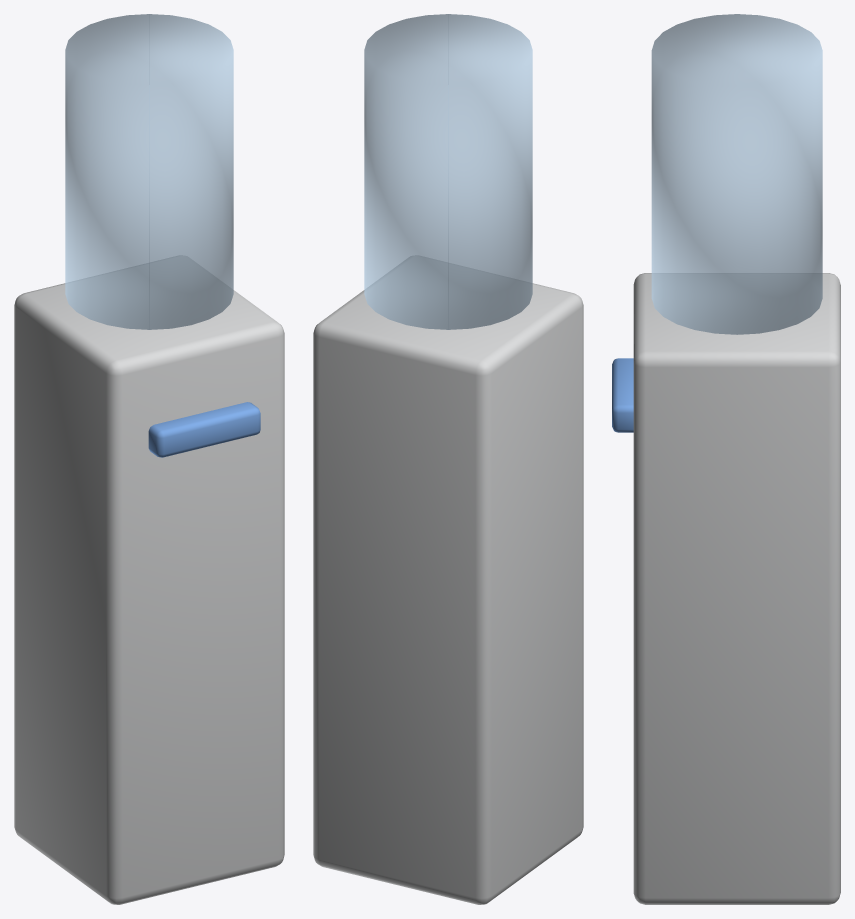
Rendered from water_cooler.glb.
3 views of the same model, side by side, from view 1: azimuth 30°, elevation 25°; view 2: azimuth 150°, elevation 25°; view 3: azimuth 270°, elevation 25° (orthographic).
Visible parts, largest first — view 1: Cube, Cylinder, Cube.001; view 2: Cube, Cylinder; view 3: Cube, Cylinder, Cube.001.
Boxes of the visible parts, x1,y1,x2,y2 form: Cube: (14, 255, 284, 904); Cylinder: (65, 14, 233, 329); Cube.001: (148, 402, 260, 457); Cube: (313, 255, 583, 904); Cylinder: (364, 14, 532, 329); Cube: (633, 273, 840, 904); Cylinder: (651, 14, 822, 334); Cube.001: (612, 358, 633, 432).
Bounding box in the file's own units: 0.34 × 1.47 × 0.375.
